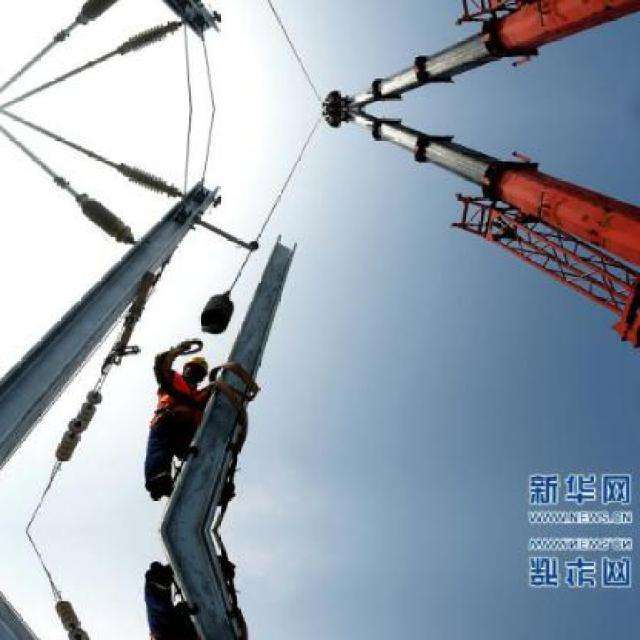helmet: (180, 352, 208, 383)
